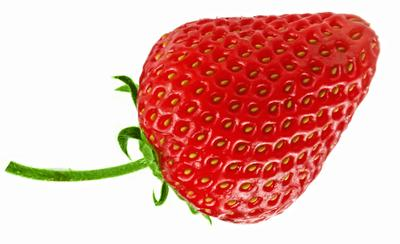strawberry: (0, 0, 400, 244)
